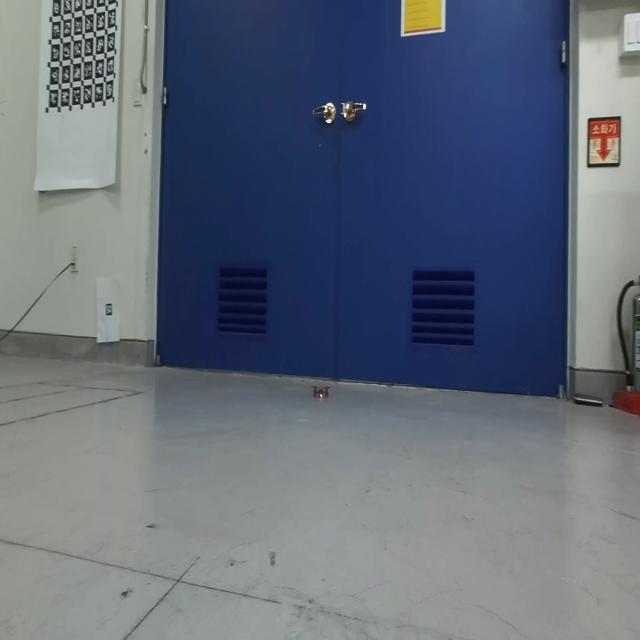crazyflie: (310, 378, 332, 404)
